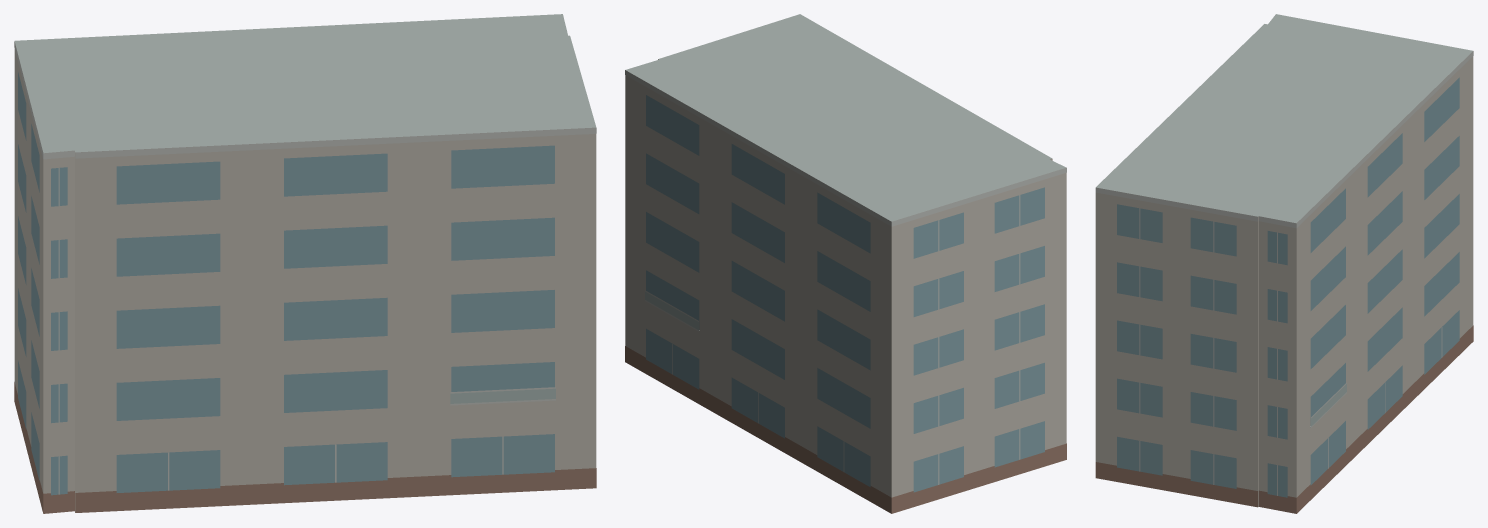
Rendered from survey-upis-32523677.glb.
3 renders of one model, left to right at view 1: azimuth 30°, elevation 25°; view 2: azimuth 150°, elevation 25°; view 3: azimuth 270°, elevation 25°, orthographic. The views are drawn at different scales.
Visible parts, largest first — view 1: survey-upis-32523677.tmp; view 2: survey-upis-32523677.tmp; view 3: survey-upis-32523677.tmp.
Part boxes in pixels (x1=…): survey-upis-32523677.tmp: x1=14, y1=14, x2=596, y2=513; survey-upis-32523677.tmp: x1=625, y1=14, x2=1066, y2=513; survey-upis-32523677.tmp: x1=1095, y1=14, x2=1473, y2=513.
Size of the model in its own units: 21.79 by 14.1 by 16.63.
